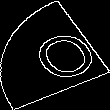O_SE: (13, 22, 97, 88)
